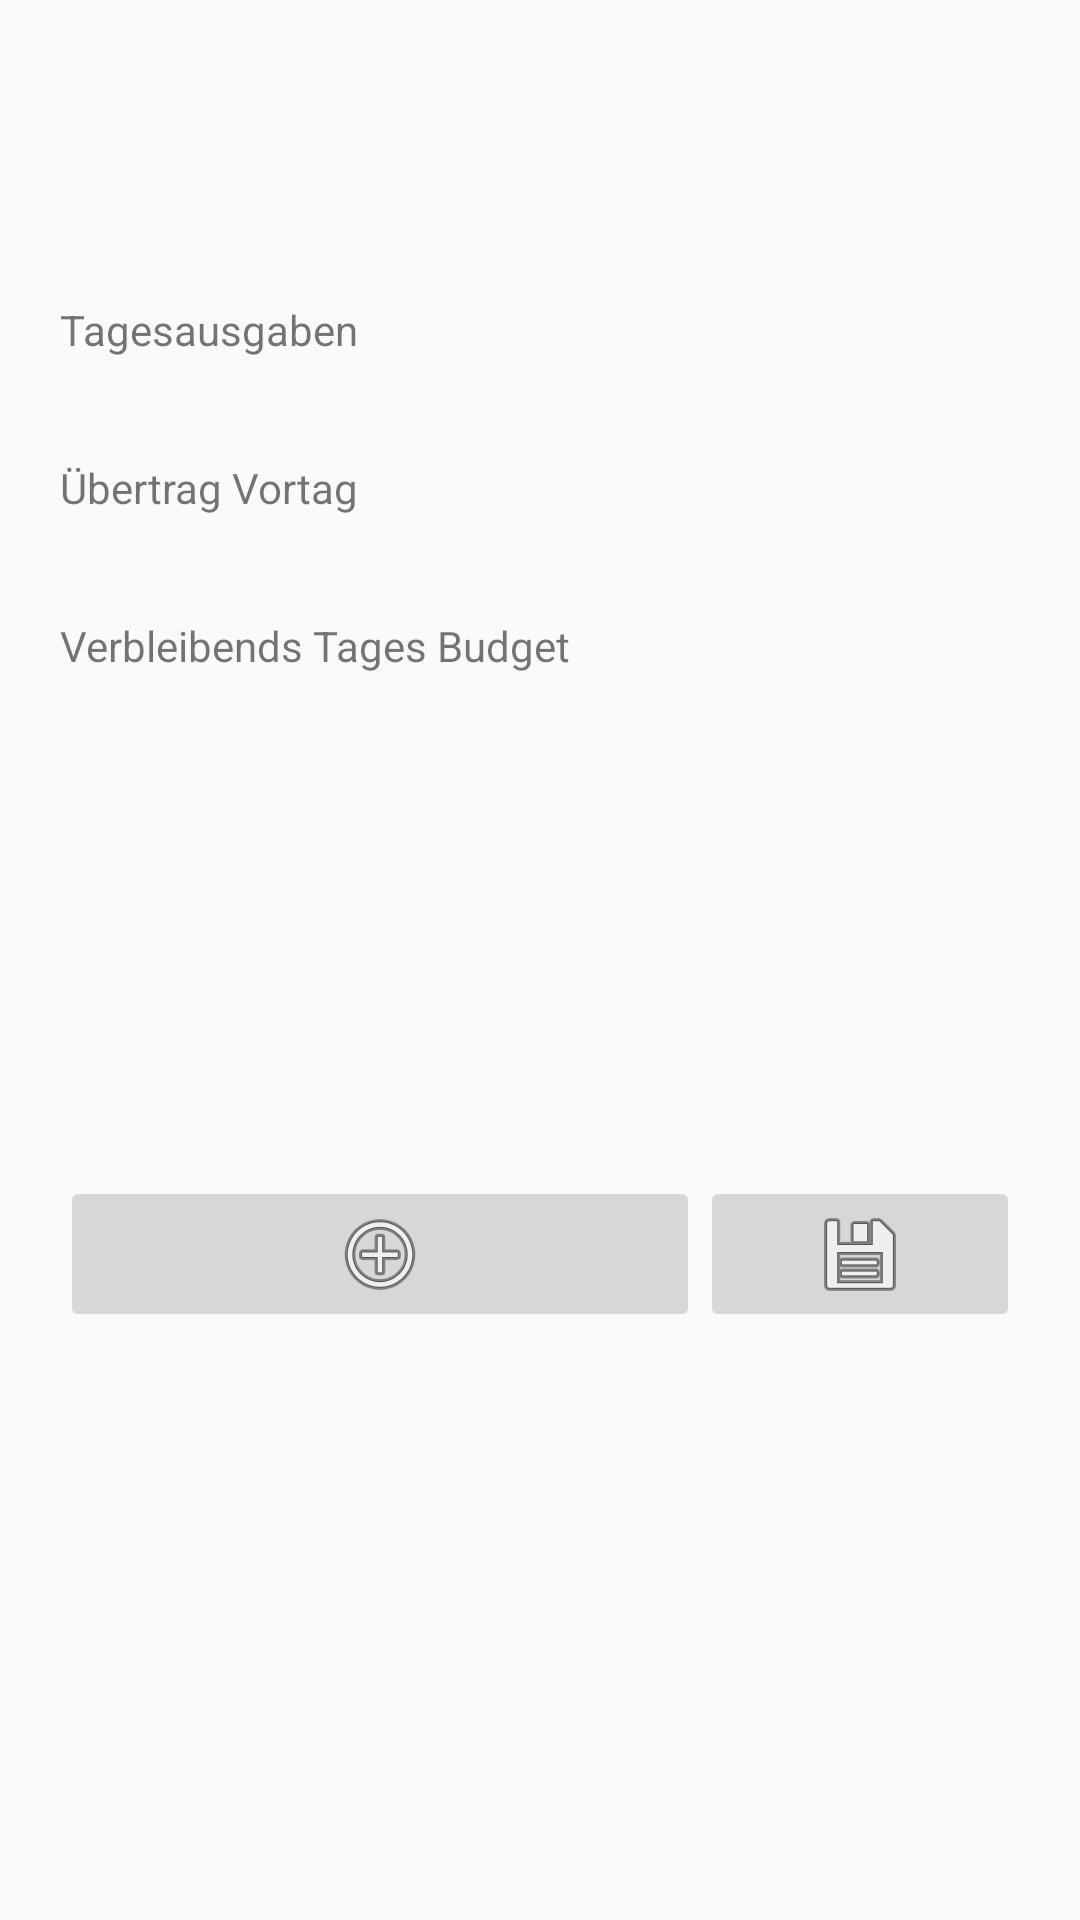

Locate icon controls on the screen. Image size 1080px x 1920px, boxes as (x1, y1, x2, y2).
save: (712, 1194, 1008, 1314)
